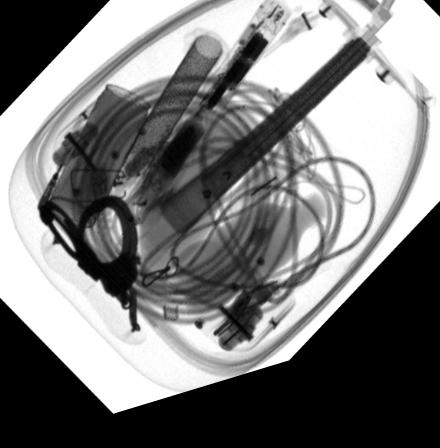Baton: (114, 11, 291, 233)
HandCuffs: (37, 199, 139, 316)
